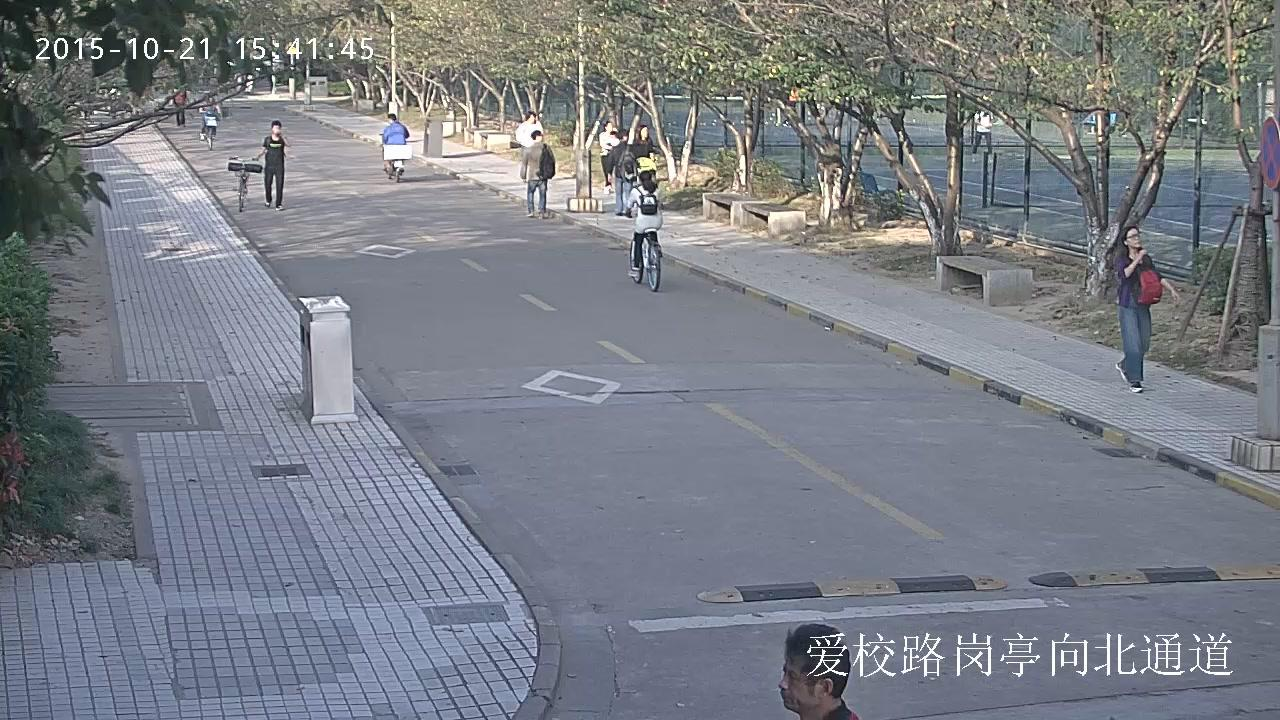face: (780, 655, 821, 711), (1127, 228, 1140, 247), (272, 125, 280, 133), (641, 127, 647, 137), (530, 113, 535, 122), (607, 123, 612, 131), (537, 133, 542, 141), (207, 98, 212, 104), (624, 135, 628, 142), (387, 117, 391, 122)
